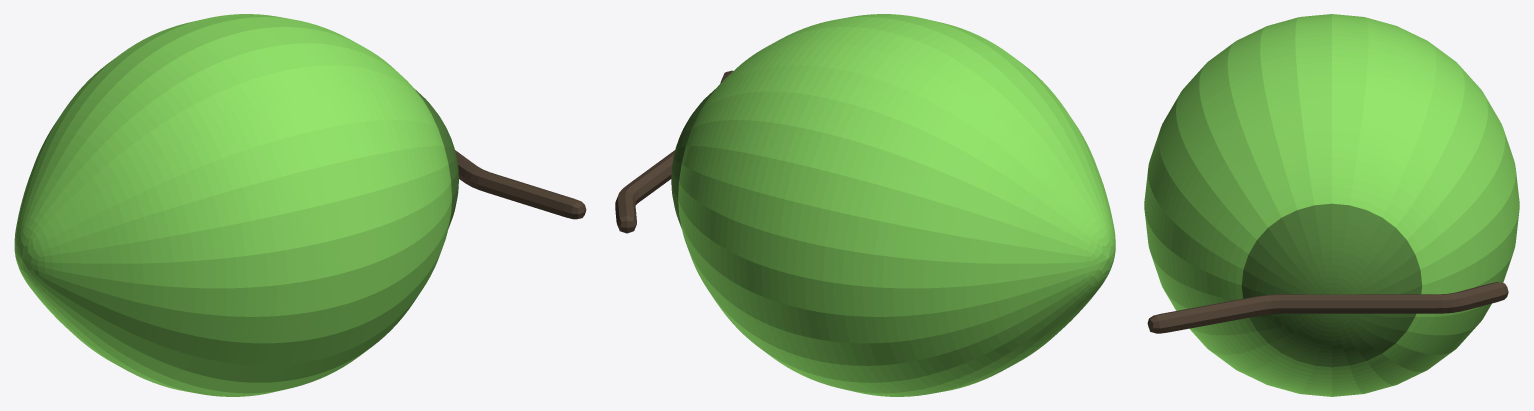
File: coconut_green.fbx
3 views of the same model, side by side, from view 1: azimuth 30°, elevation 25°; view 2: azimuth 150°, elevation 25°; view 3: azimuth 270°, elevation 25° (orthographic).
Visible parts, largest first — view 1: coconut, coconutbrunch, coconut_hat; view 2: coconut, coconutbrunch, coconut_hat; view 3: coconut, coconut_hat, coconutbrunch.
Boxes of the visible parts, x1,y1,x2,y2 form: coconut: [14, 14, 451, 396]; coconutbrunch: [455, 150, 586, 219]; coconut_hat: [414, 88, 458, 228]; coconut: [678, 14, 1115, 396]; coconutbrunch: [615, 70, 732, 233]; coconut_hat: [671, 89, 715, 228]; coconut: [1144, 14, 1519, 396]; coconut_hat: [1241, 203, 1422, 367]; coconutbrunch: [1147, 282, 1508, 333].
Size of the model in its own units: 257 by 179 by 179.
